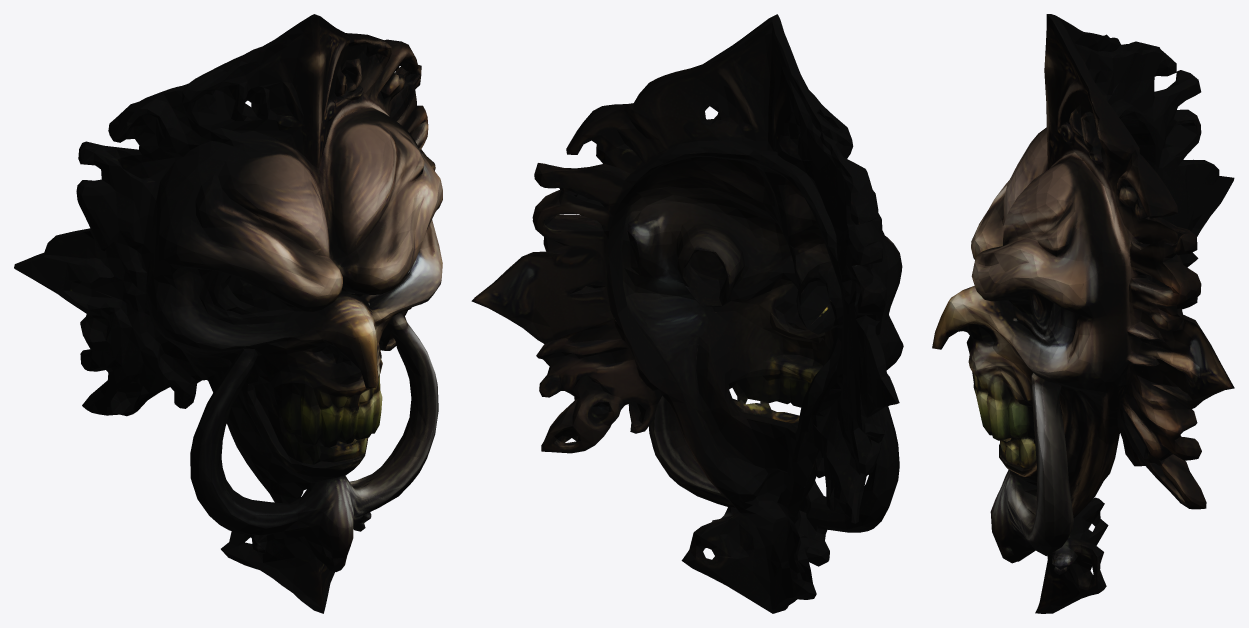
The model's file is wooden-door-knocker-horror.jpeg.glb.
3 renders of one model, left to right at view 1: azimuth 30°, elevation 25°; view 2: azimuth 150°, elevation 25°; view 3: azimuth 270°, elevation 25°, orthographic.
Parts seen in each view (by area): view 1: world; view 2: world; view 3: world.
Part boxes in pixels (x1=…): world: x1=14, y1=14, x2=442, y2=613; world: x1=471, y1=14, x2=903, y2=613; world: x1=932, y1=14, x2=1234, y2=613.
Bounding box in the file's own units: 0.747 × 1 × 0.4589.
1 material, 1 textured.
